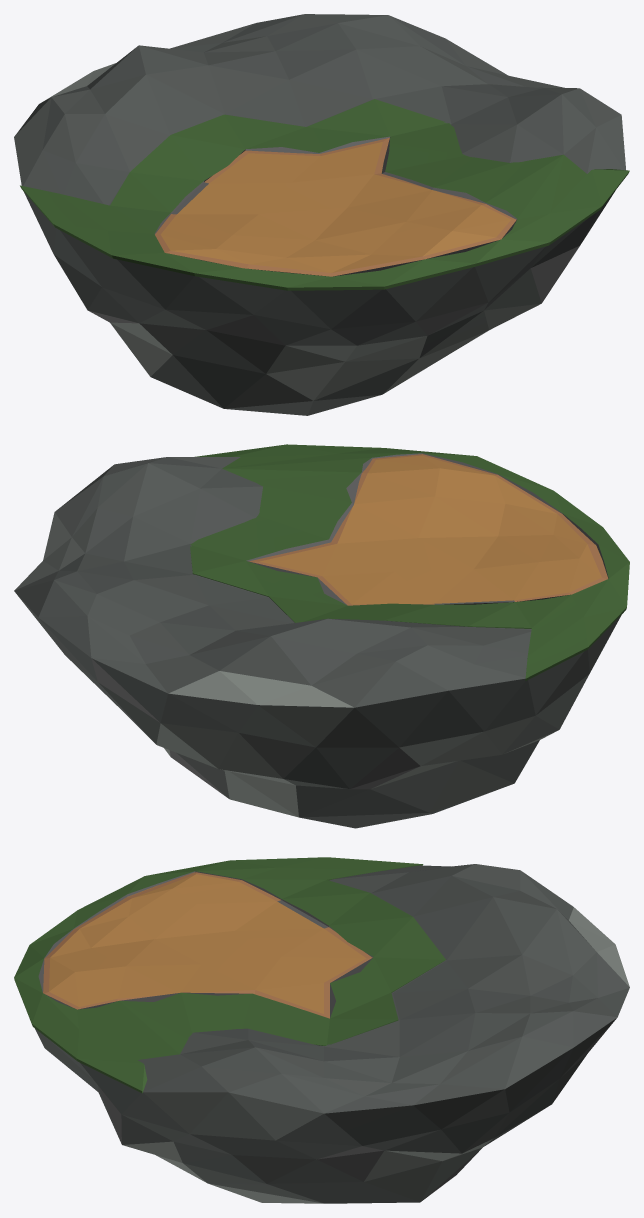
File: Object_FloatingIsland.fbx
3 views of the same model, one above another, from view 1: azimuth 30°, elevation 25°; view 2: azimuth 150°, elevation 25°; view 3: azimuth 270°, elevation 25° (orthographic).
Parts seen in each view (by area): view 1: Icosphere; view 2: Icosphere; view 3: Icosphere.
Boxes of the visible parts, x1,y1,x2,y2 form: Icosphere: (14,14,629,415); Icosphere: (14,444,629,828); Icosphere: (14,857,629,1203).
Bounding box in the file's own units: 4.97 × 2.39 × 4.99.
